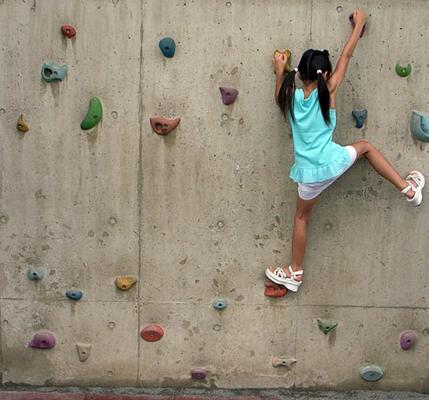person: (264, 10, 427, 292)
